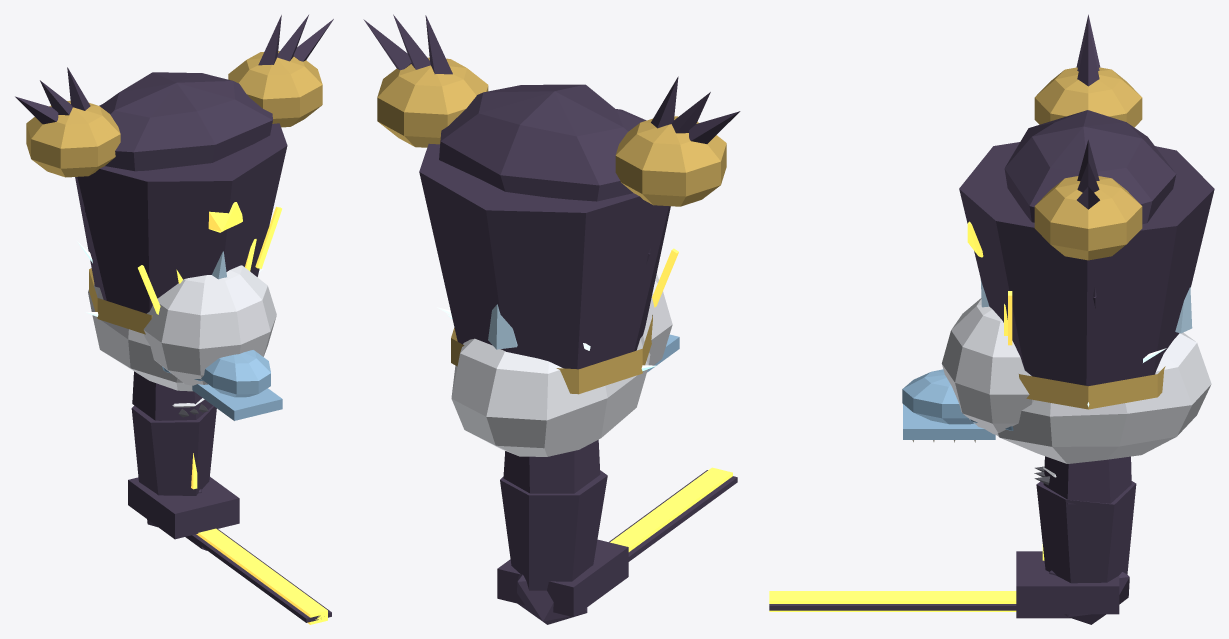
File: monsters_new.glb
The picture shows the model from 3 angles, left to right: view 1: azimuth 30°, elevation 25°; view 2: azimuth 150°, elevation 25°; view 3: azimuth 270°, elevation 25°; orthographic projection. The views are drawn at different scales.
Parts seen in each view (by area): view 1: vul_torso, bear_body, vul_leg, wyrm_head, vul_armsword; view 2: vul_torso, bear_body, vul_leg, vul_armsword, vul_arm; view 3: vul_torso, bear_body, vul_leg, vul_armsword, wyrm_head.
Boxes of the visible parts, x1,y1,x2,y2 form: vul_torso: [15, 15, 333, 334]; bear_body: [88, 251, 276, 391]; vul_leg: [128, 371, 239, 539]; wyrm_head: [77, 241, 282, 420]; vul_armsword: [185, 528, 331, 624]; vul_torso: [363, 14, 740, 394]; bear_body: [451, 274, 672, 456]; vul_leg: [497, 440, 628, 617]; vul_armsword: [609, 467, 737, 561]; vul_arm: [517, 574, 587, 624]; vul_torso: [959, 14, 1214, 409]; bear_body: [941, 279, 1211, 463]; vul_leg: [1016, 456, 1136, 614]; vul_armsword: [769, 591, 1070, 618]; wyrm_head: [902, 348, 1166, 442].
Bounding box in the file's own units: 3.96 × 5.81 × 4.33.
